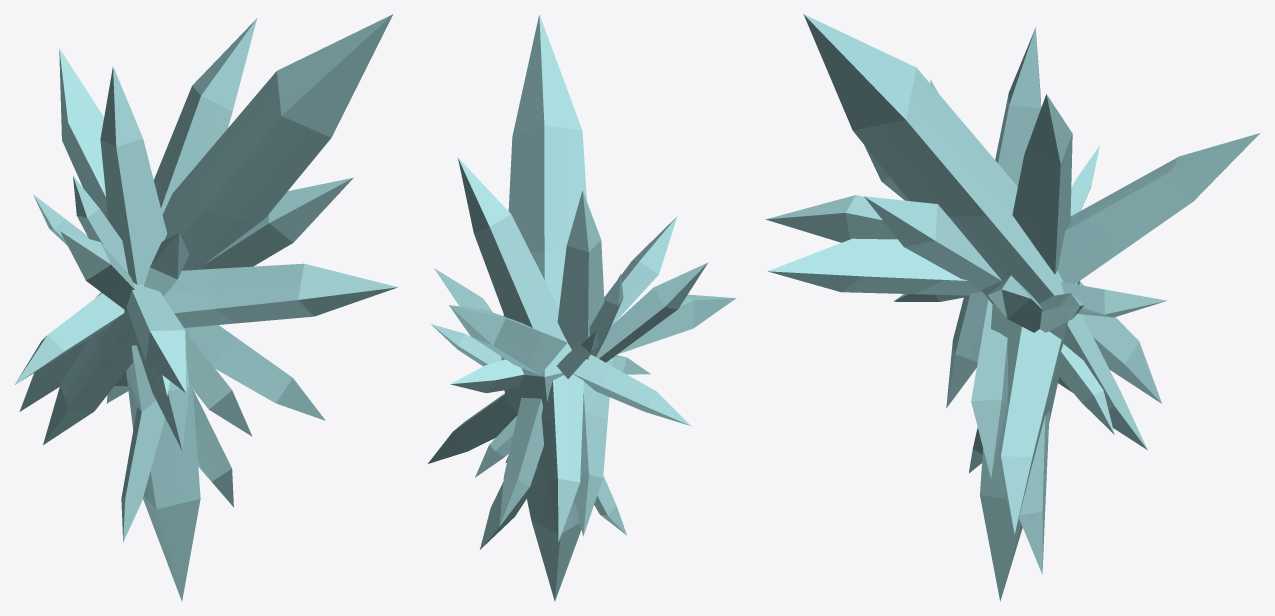
The model's file is IceCrystals_1.fbx.
3 renders of one model, left to right at view 1: azimuth 30°, elevation 25°; view 2: azimuth 150°, elevation 25°; view 3: azimuth 270°, elevation 25°, orthographic. The views are drawn at different scales.
Parts seen in each view (by area): view 1: IceCrystal_1; view 2: IceCrystal_1; view 3: IceCrystal_1.
Part boxes in pixels (bbox=[...]): IceCrystal_1: bbox=[15, 14, 397, 601]; IceCrystal_1: bbox=[428, 14, 735, 601]; IceCrystal_1: bbox=[765, 14, 1260, 601].
Bounding box in the file's own units: 872 × 1645 × 1144.
